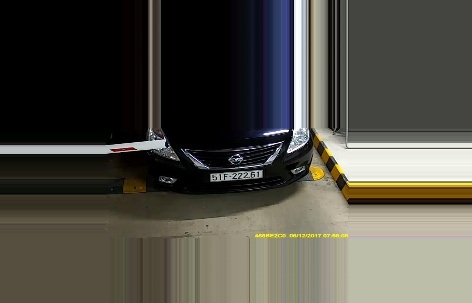plate: (204, 169, 264, 183)
